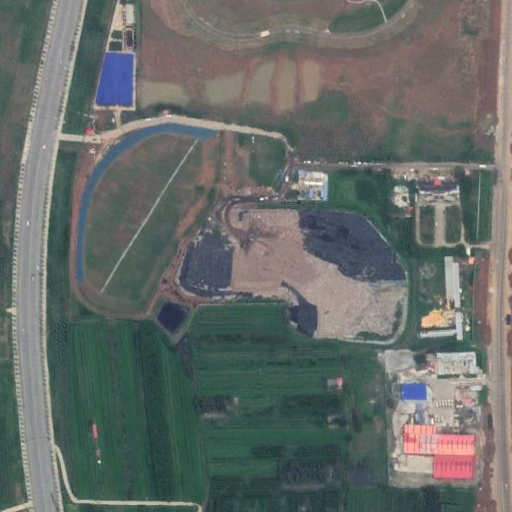lf: (182, 202, 409, 345)
